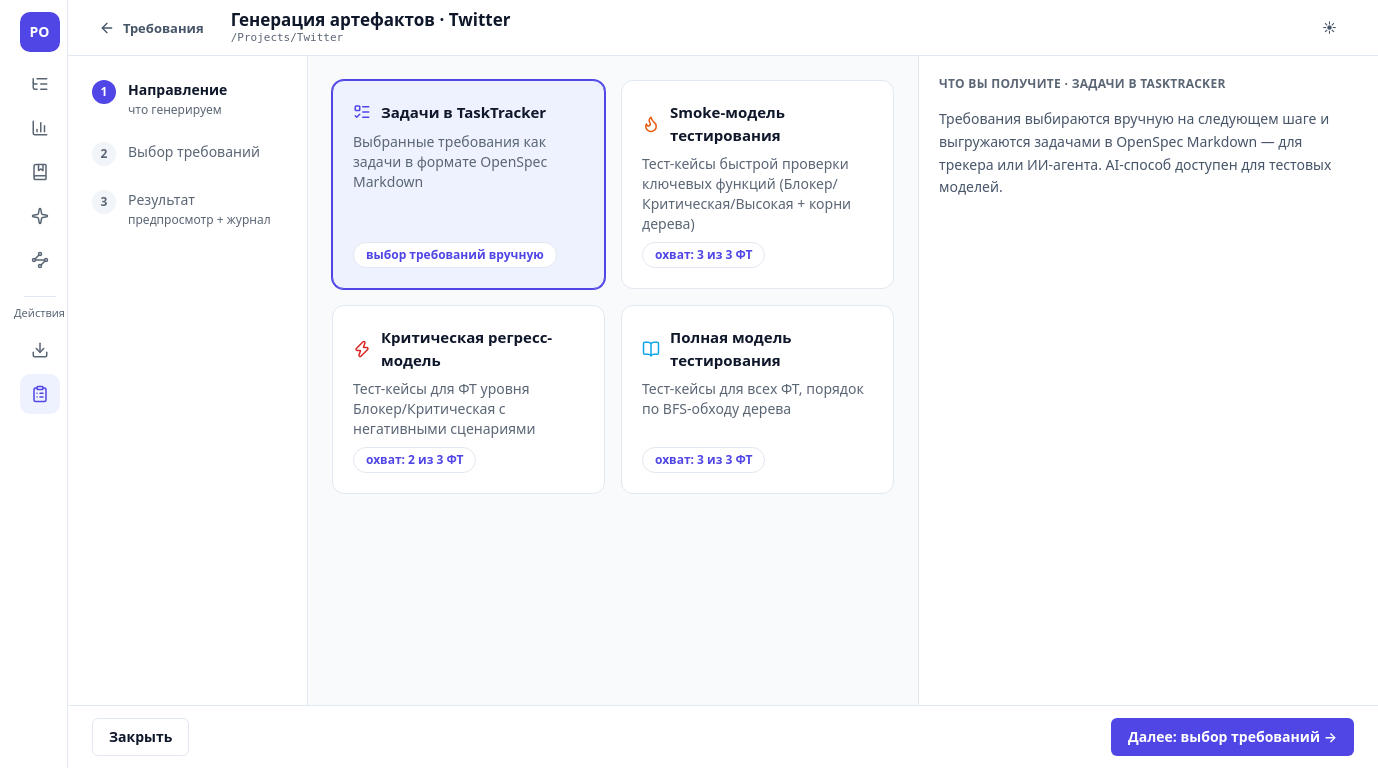
it: Г2 — ветка «Задачи в TaskTracker» › ведёт на выбор требований тем же деревом и собирает задачи
Click the button with test id "export-tasks-dir-tracker" at (464, 112), box [332,80,605,289]
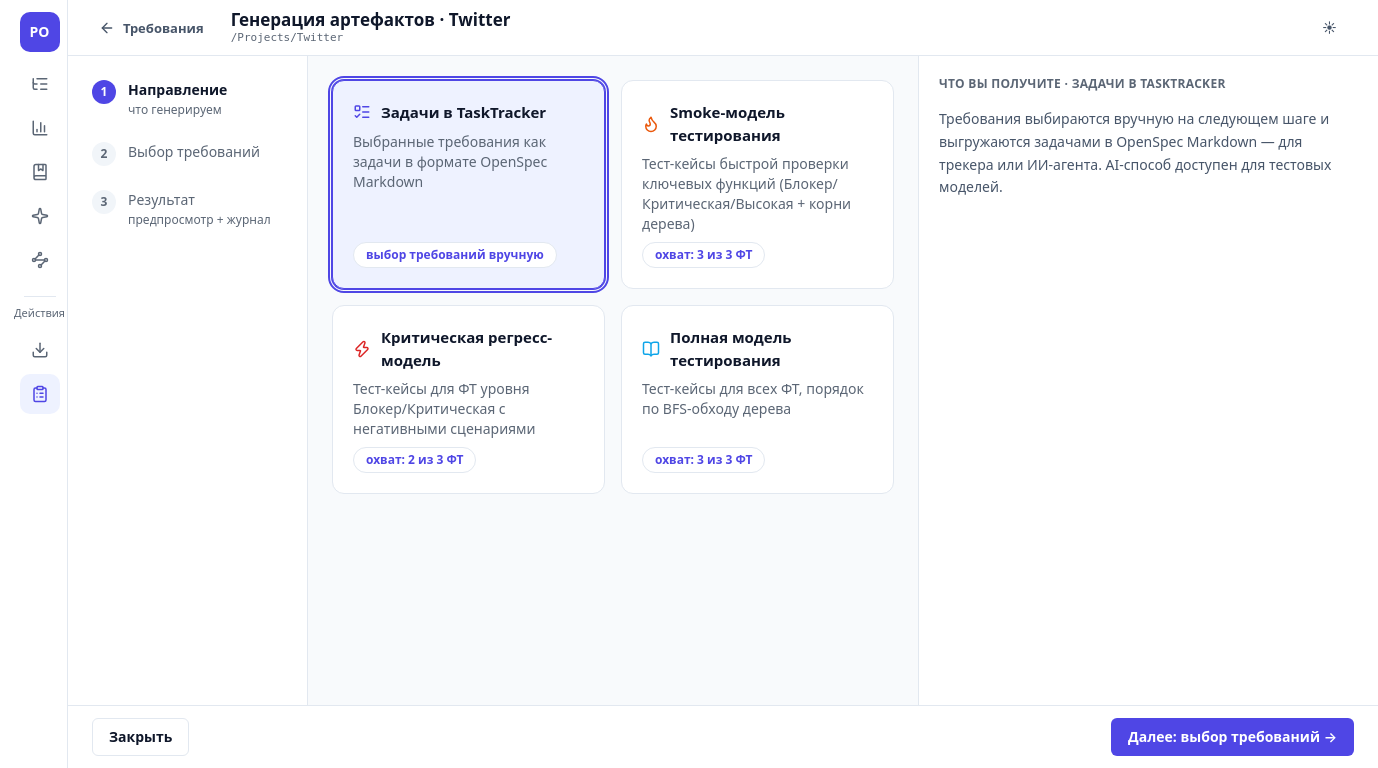
Click the button with test id "gen-direction-next" at (1233, 737), box [1111,718,1354,756]
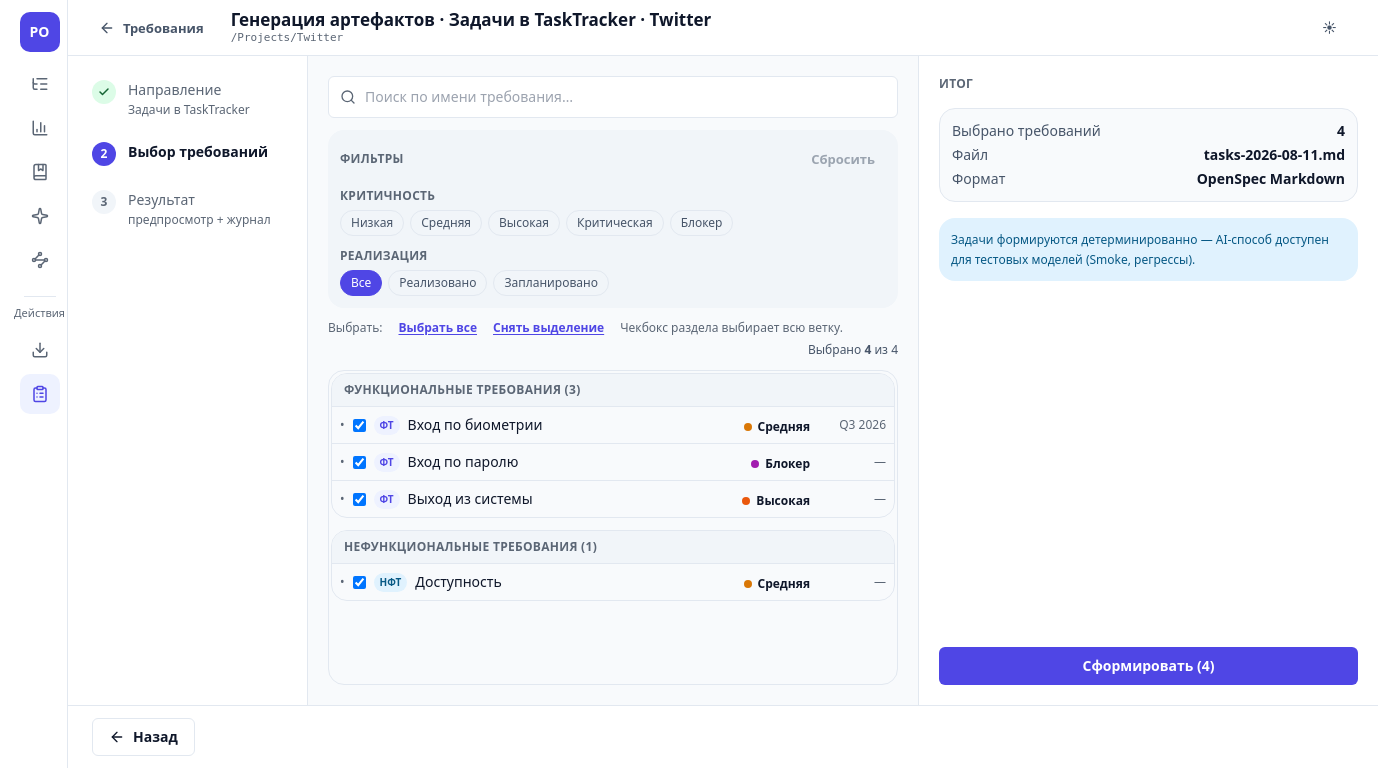
expect the element with test id "tracker-select-modal" is shown: met, box [328,76,898,685]
expect the text with test id "gen-select-count" reads "4": met, box [1337,121,1345,140]
Click the button with test id "gen-select-confirm" at (1148, 666), box [939,647,1358,685]
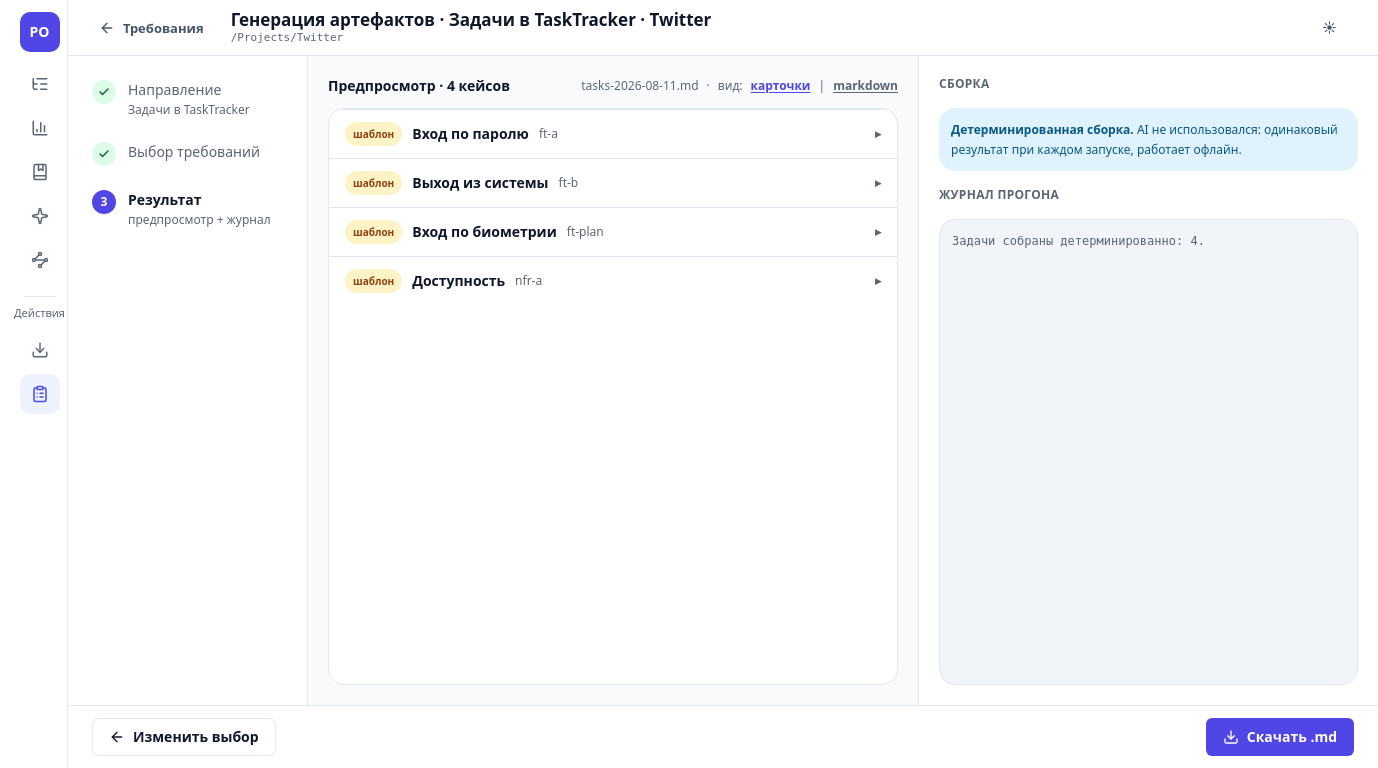
expect the text with test id "export-tasks-filename" shows "tasks-": met, box [581,77,698,94]
expect the element with test id "gen-cases" shows "Вход по паролю": met, box [345,122,881,146]
